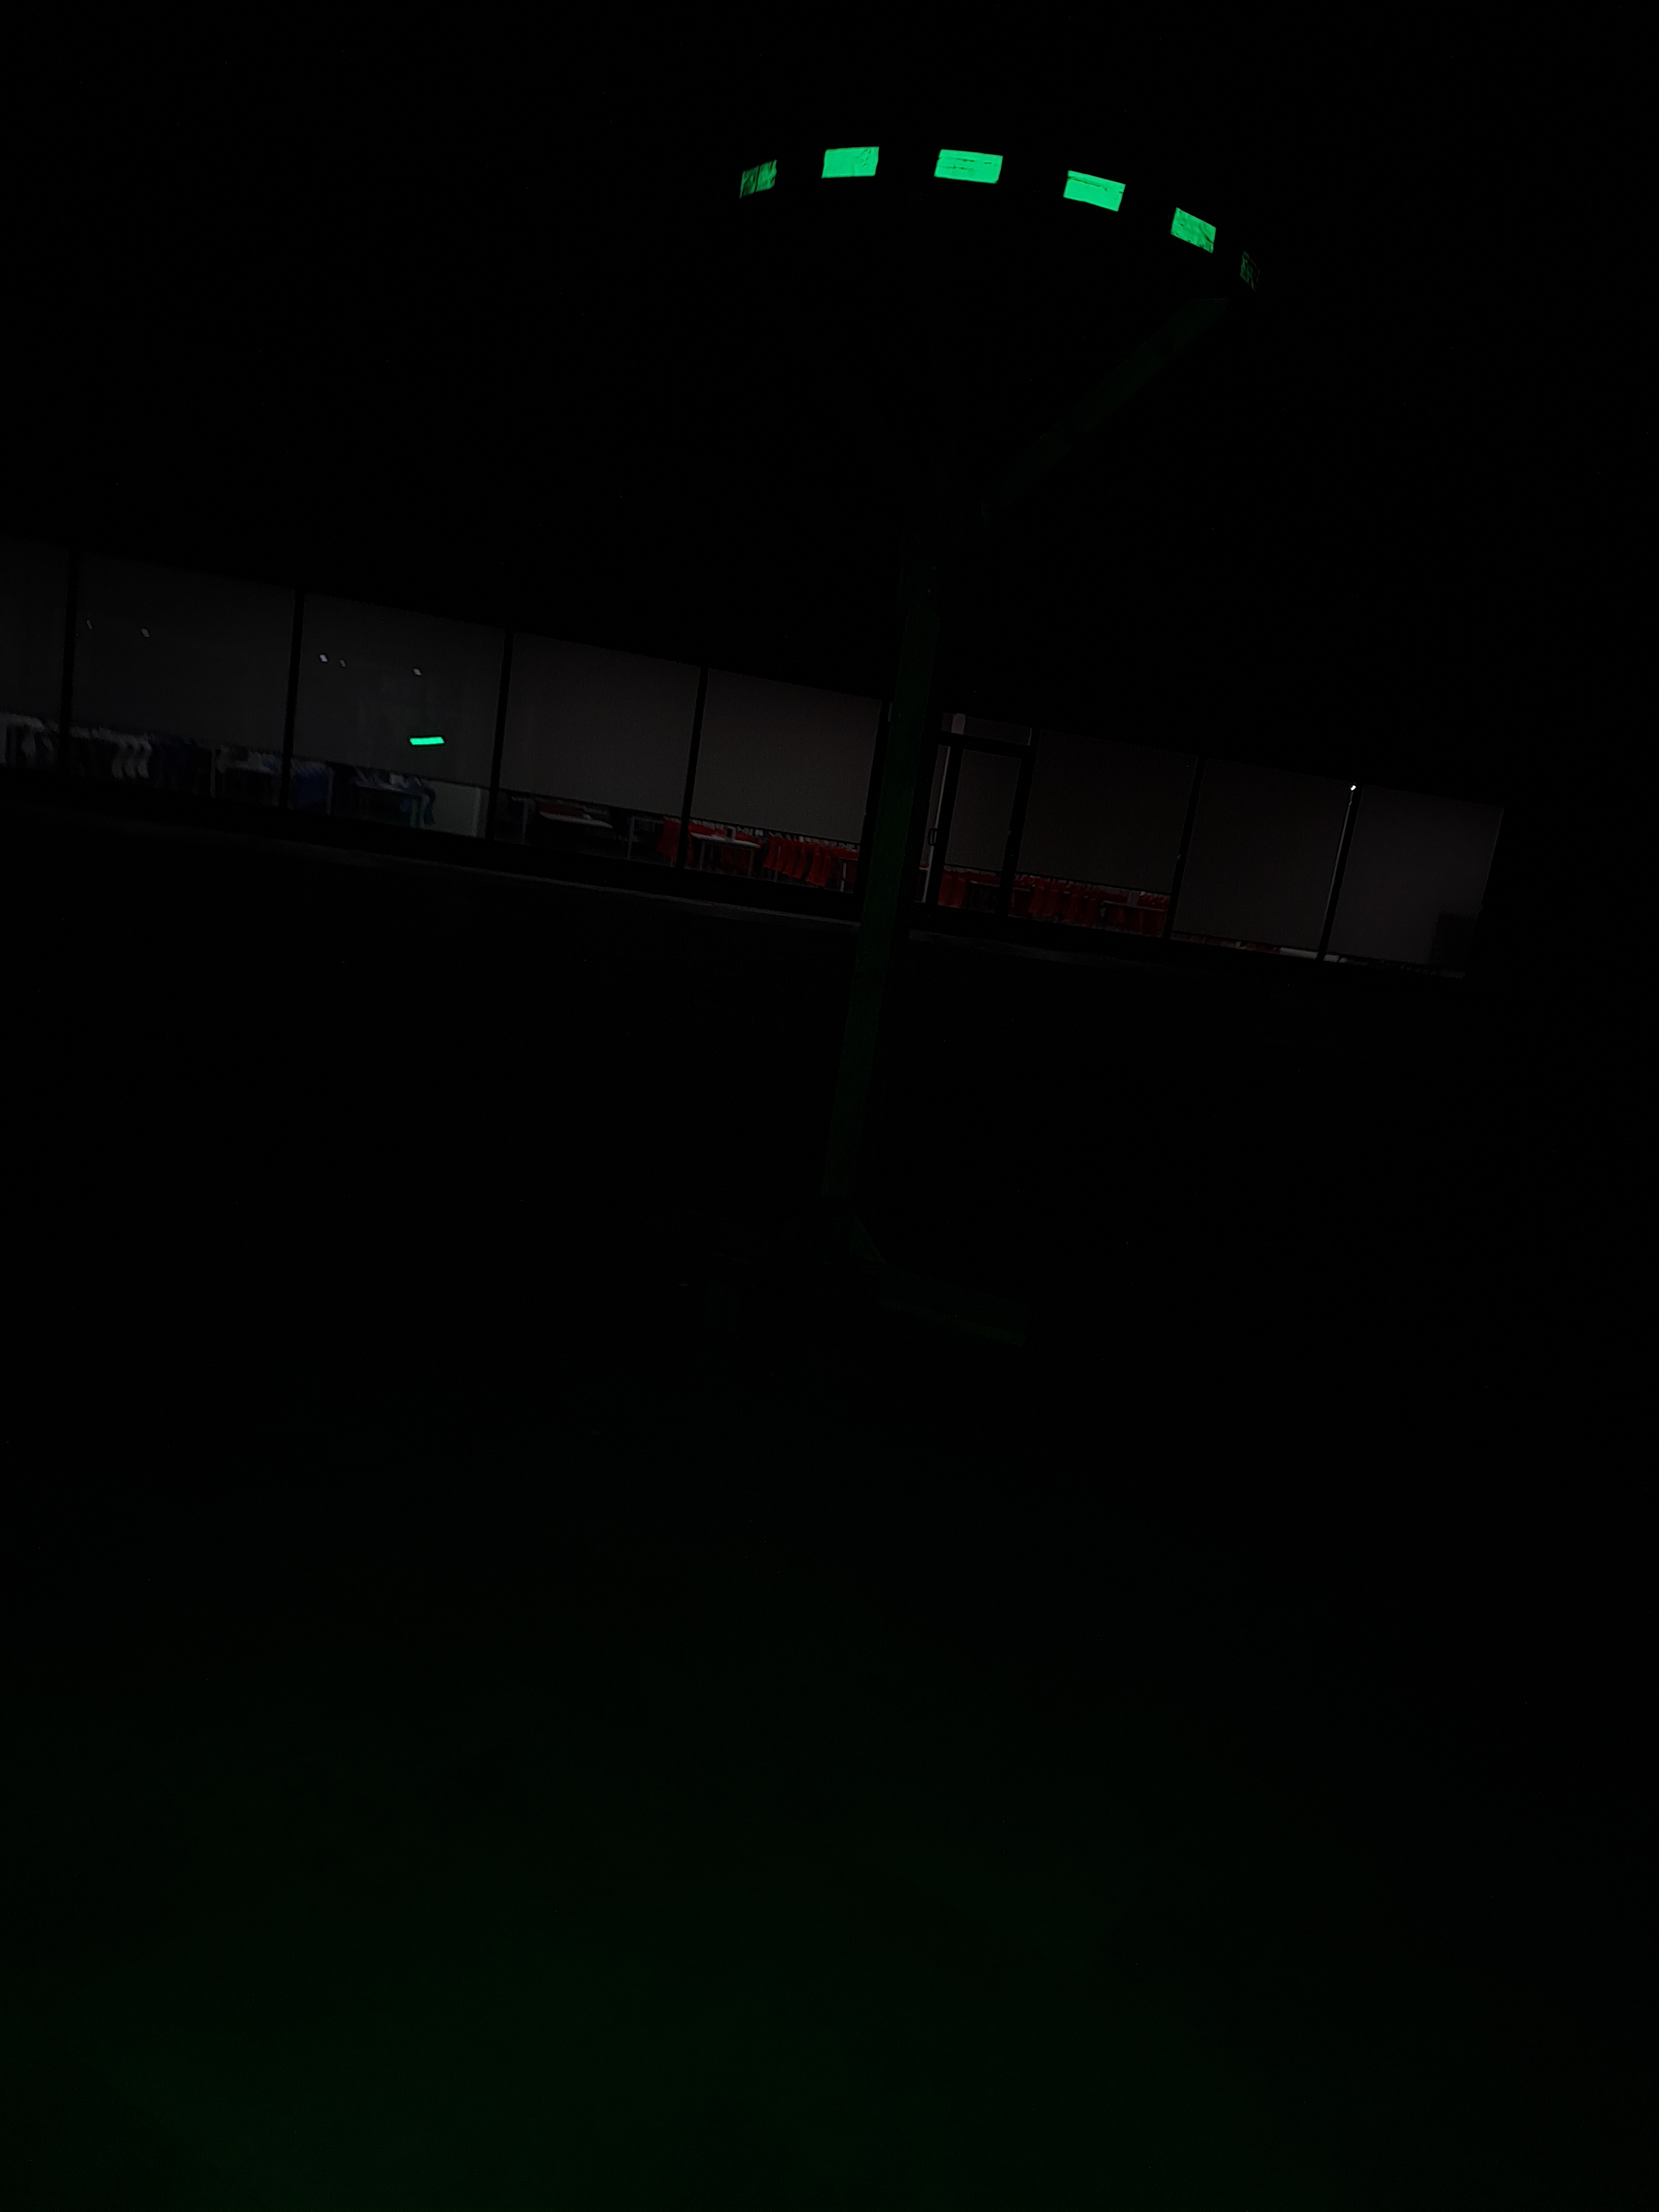hoop: (727, 146, 1223, 260)
